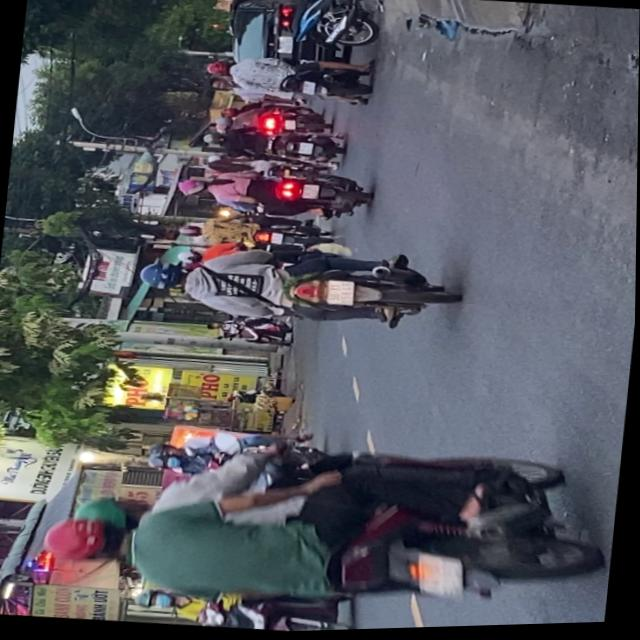helmet: (42, 511, 136, 571), (75, 492, 150, 531), (138, 260, 191, 293), (132, 588, 178, 613), (147, 452, 183, 471), (177, 177, 209, 198), (149, 442, 182, 458), (204, 60, 231, 78)
licenseplate: (39, 408, 620, 639), (131, 229, 460, 344), (143, 418, 360, 495), (173, 161, 373, 229), (130, 578, 360, 637), (201, 47, 375, 111)
nohelmet: (415, 554, 464, 600), (326, 281, 355, 307), (302, 185, 319, 200), (302, 81, 317, 96)
